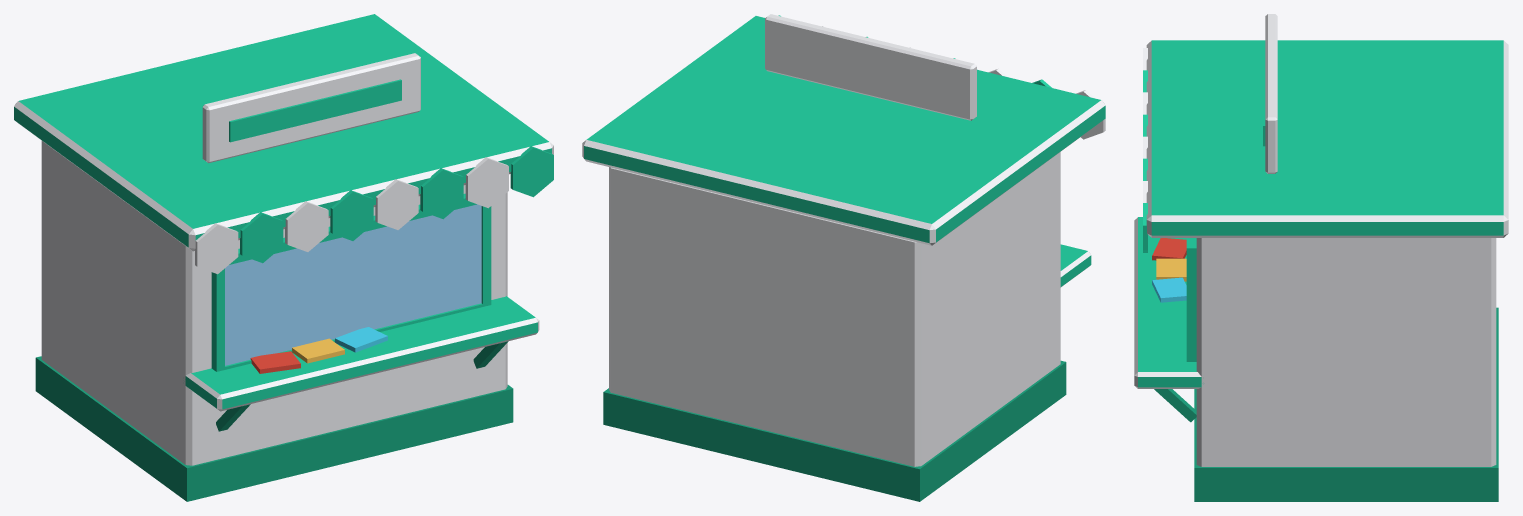
File: kiosk.glb
The picture shows the model from 3 angles, left to right: view 1: azimuth 30°, elevation 25°; view 2: azimuth 150°, elevation 25°; view 3: azimuth 270°, elevation 25°; orthographic projection. The views are drawn at different scales.
Parts seen in each view (by area): view 1: kiosk-m; view 2: kiosk-m; view 3: kiosk-m.
Boxes of the visible parts, <box> form: kiosk-m: <box>14,14,553,501</box>; kiosk-m: <box>582,14,1105,501</box>; kiosk-m: <box>1134,14,1508,501</box>.
Size of the model in its own units: 3.4 by 3.15 by 3.
